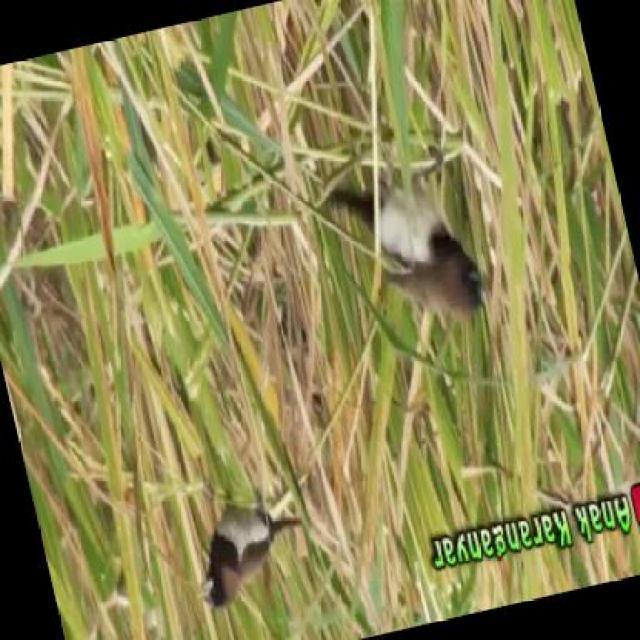Bird: (324, 176, 514, 356), (179, 486, 309, 619)
